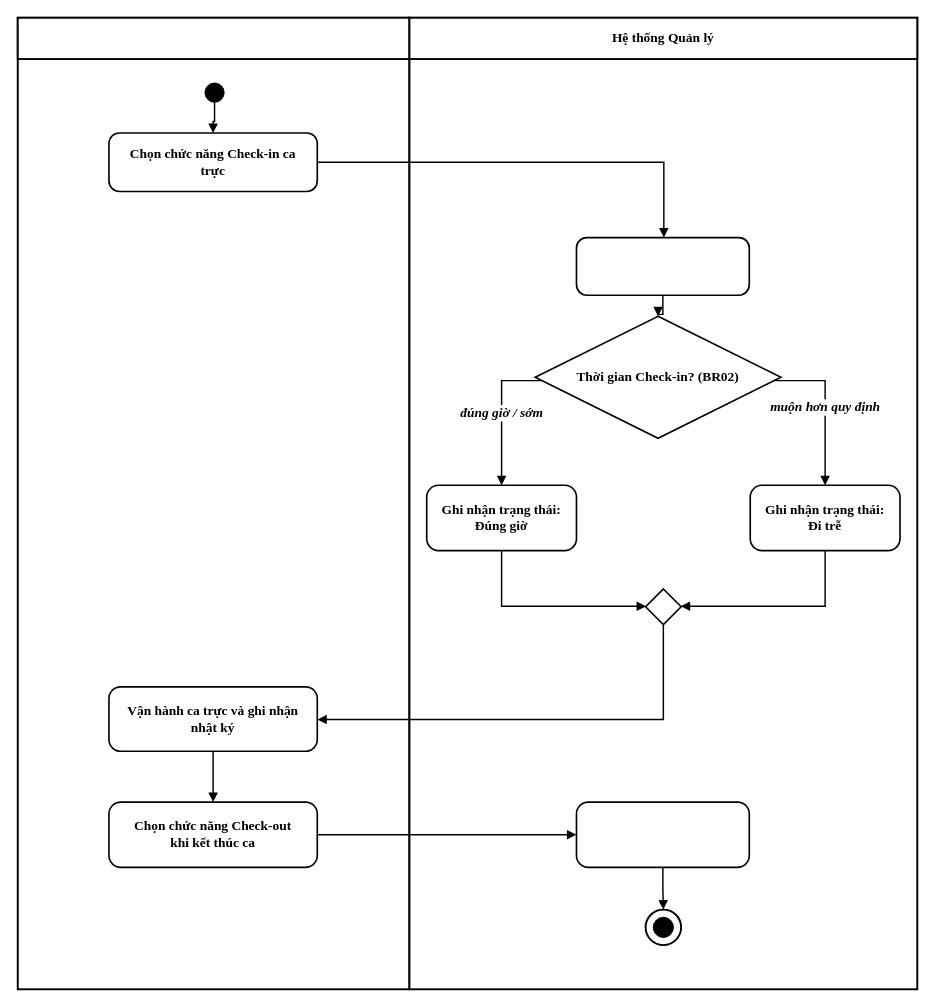
This 934x1006 diagram has some shape labels left out. The box of each missing label's shape, as (x1, y1, x2, y2) in pixels:
Cập nhật trạng thái ca trực sang "Đã kết thúc": (575, 801, 750, 868)
Lấy thời gian thực tế & đối chiếu lịch trực: (575, 236, 750, 296)
Nhân viên trực: (16, 16, 410, 60)
